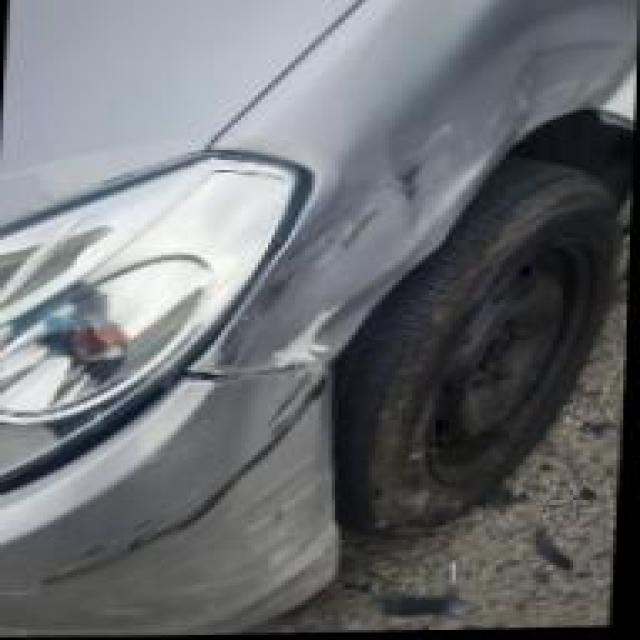Bumper: (0, 372, 345, 640)
Fender: (251, 92, 474, 361)
